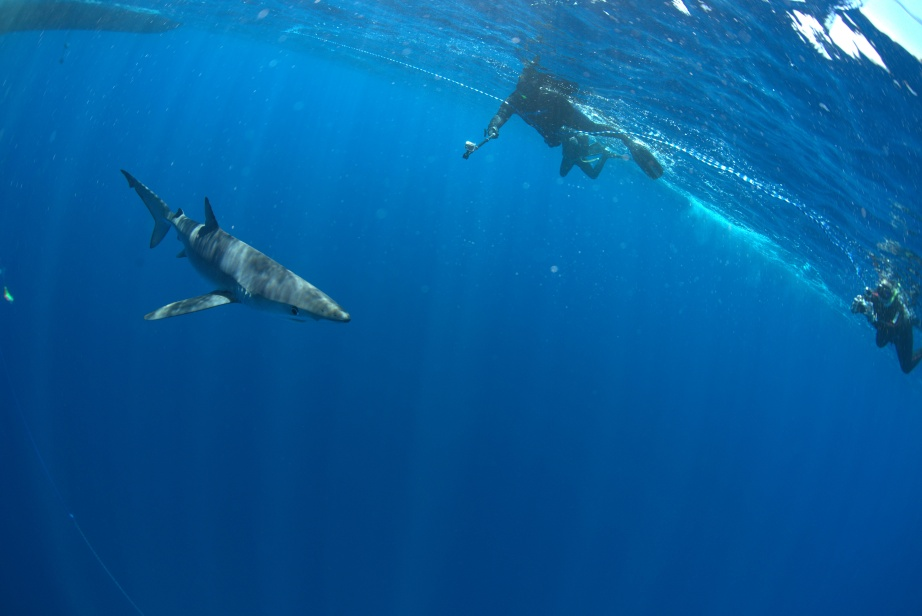Azul: (85, 162, 378, 343)
